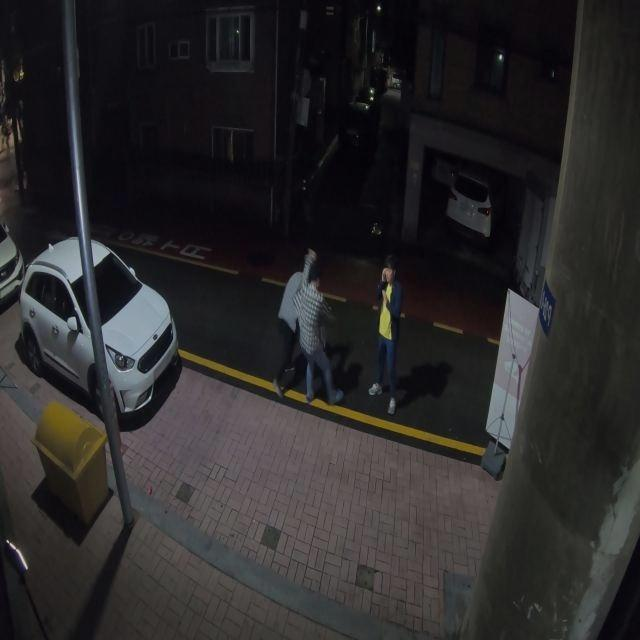fight: (274, 246, 347, 410)
non-fight: (363, 257, 405, 414)
